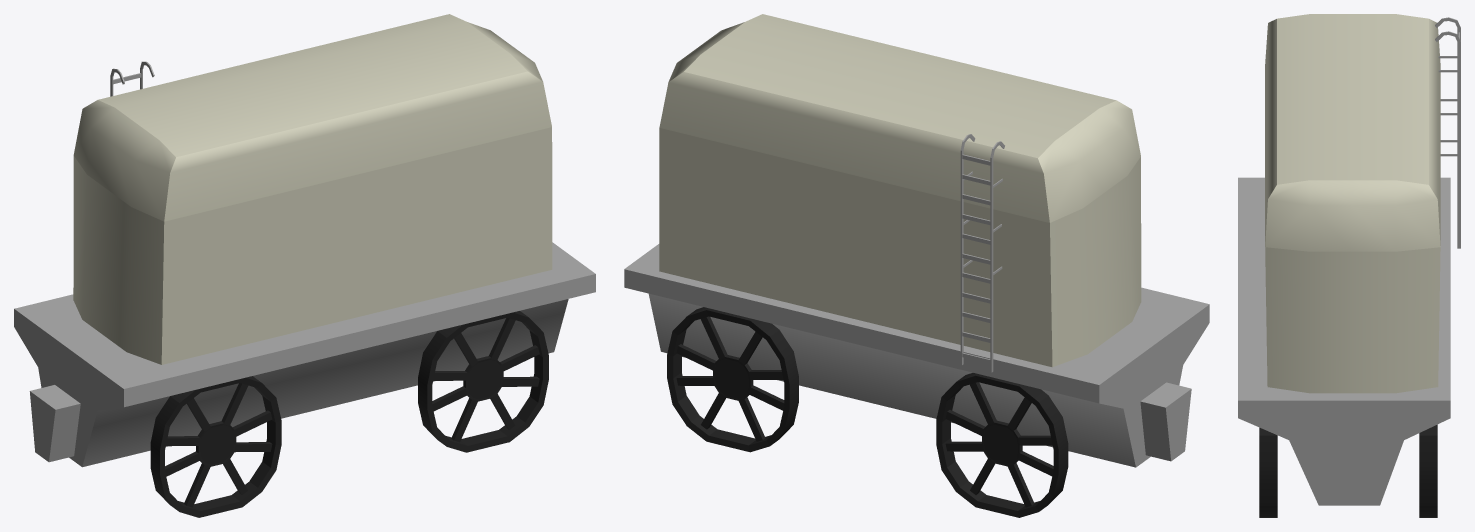
Rendered from Asset_TrainCarriage02Original.fbx.
The picture shows the model from 3 angles, left to right: view 1: azimuth 30°, elevation 25°; view 2: azimuth 150°, elevation 25°; view 3: azimuth 270°, elevation 25°; orthographic projection. The views are drawn at different scales.
Visible parts, largest first — view 1: polySurface26; view 2: polySurface26; view 3: polySurface26.
Part boxes in pixels (x1,y1,x2,y2): polySurface26: (14,14,595,517); polySurface26: (624,14,1209,517); polySurface26: (1238,14,1460,517).
Size of the model in its own units: 772 by 553 by 309.
